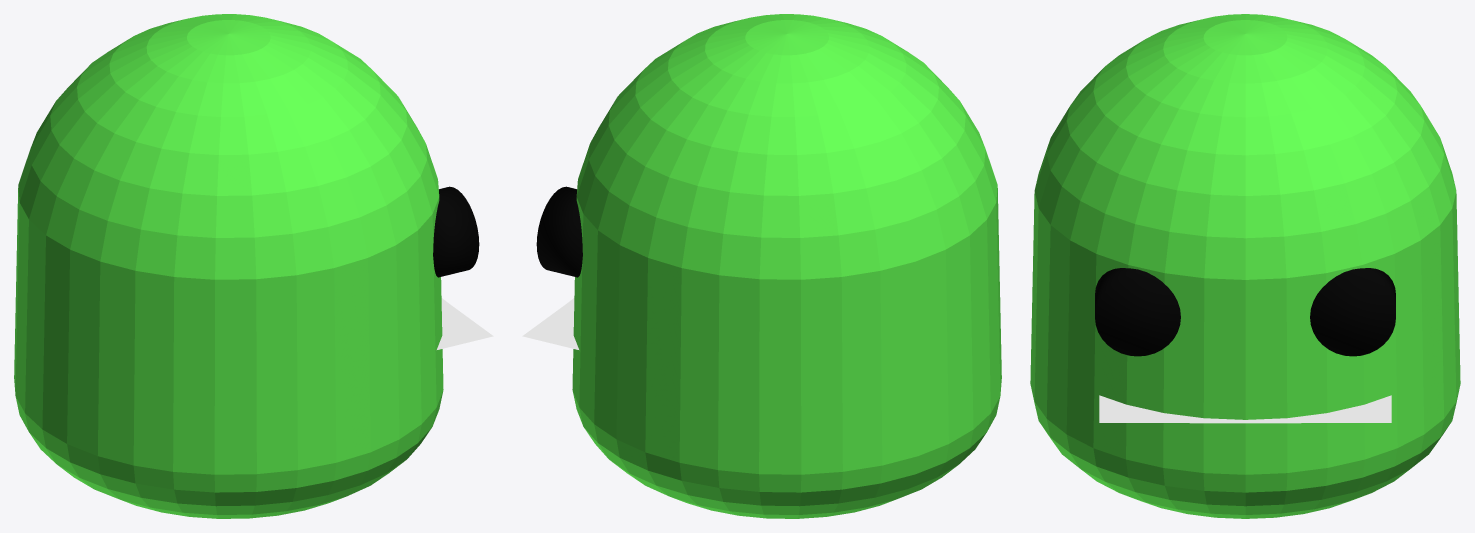
3 views of the same model, side by side, from view 1: azimuth 30°, elevation 25°; view 2: azimuth 150°, elevation 25°; view 3: azimuth 270°, elevation 25° (orthographic).
Visible parts, largest first — view 1: Sphere, Cylinder, Cylinder.002; view 2: Sphere, Cylinder.001, Cylinder.002; view 3: Sphere, Cylinder, Cylinder.001, Cylinder.002.
Part boxes in pixels (x1,y1,x2,y2): Sphere: (14, 14, 443, 518); Cylinder: (433, 186, 479, 277); Cylinder.002: (437, 298, 493, 349); Sphere: (572, 14, 1001, 518); Cylinder.001: (536, 186, 582, 277); Cylinder.002: (522, 298, 578, 349); Sphere: (1030, 14, 1460, 518); Cylinder: (1095, 268, 1180, 356); Cylinder.001: (1310, 268, 1395, 356); Cylinder.002: (1099, 395, 1391, 423).
Size of the model in its own units: 2.03 by 2.31 by 2.
Materials: 4 (3 with a texture image).
